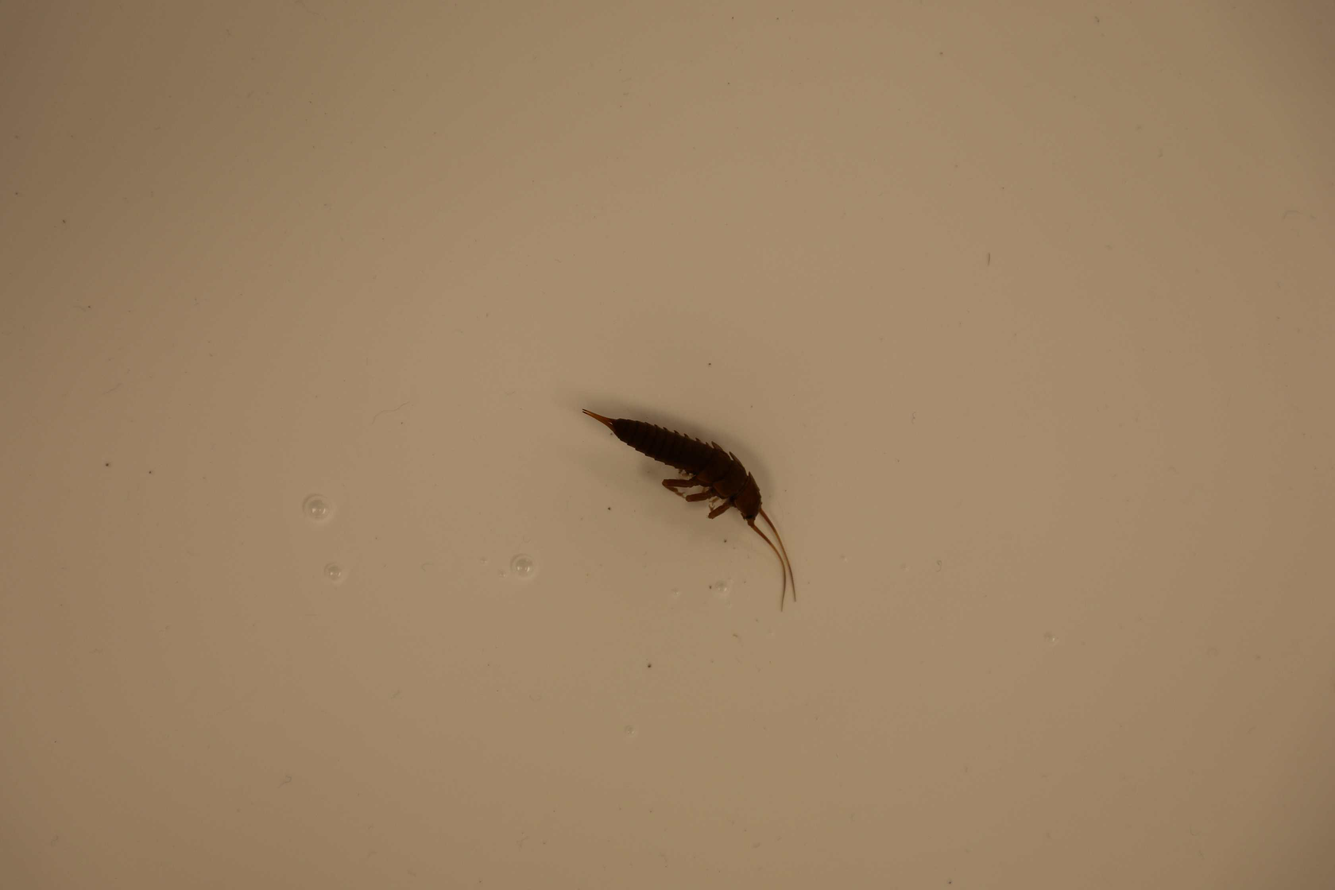Stonefly: (575, 405, 794, 606)
